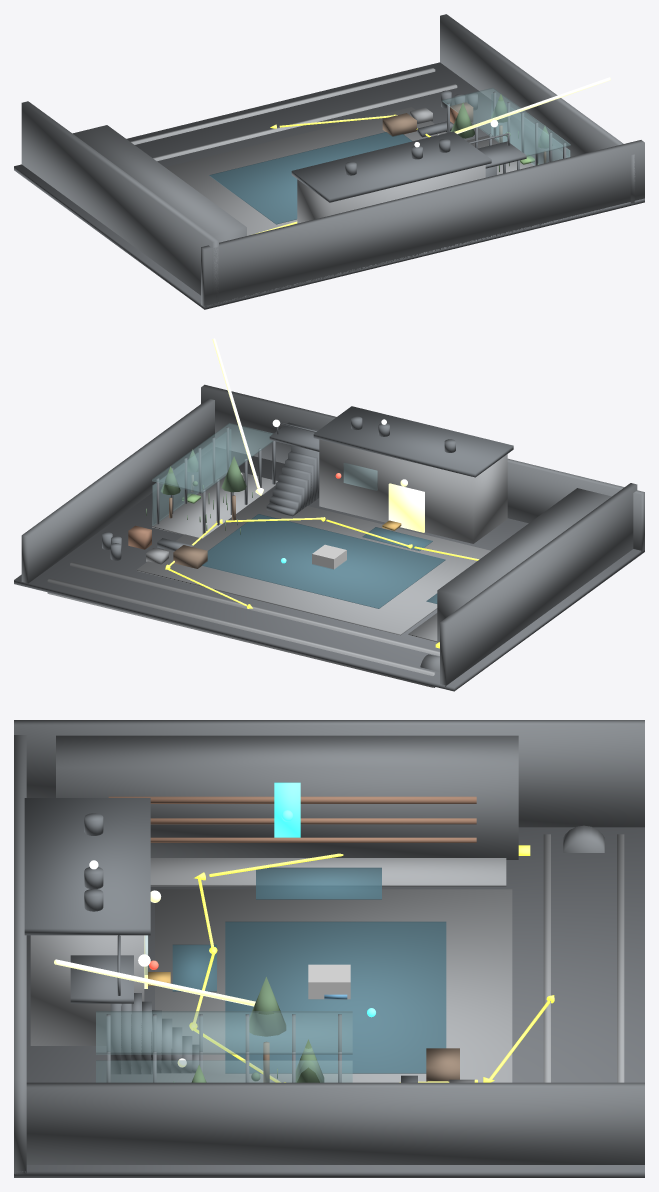
The model's file is scene_sketch.glb.
3 renders of one model, top to bottom at view 1: azimuth 30°, elevation 25°; view 2: azimuth 150°, elevation 25°; view 3: azimuth 270°, elevation 25°, orthographic. The views are drawn at different scales.
Parts seen in each view (by area): view 1: Boundary_Back, Ground_Site, Boundary_Left, Zone01_Courtyard_Paving, Boundary_Right, Building_Roof, Water_Central_Shallow, Alley_Left_Wall, GlassCorridor_Roof, Building_Main, GlassCorridor_Side, Canal_Wall_Front (+6 smaller); view 2: Zone01_Courtyard_Paving, Ground_Site, Boundary_Left, Water_Central_Shallow, Building_Main, Boundary_Right, Boundary_Back, Building_Roof, Alley_Left_Wall, GlassCorridor_Roof, GlassCorridor_Floor, Canal_Wall_Front (+10 smaller); view 3: Zone01_Courtyard_Paving, Boundary_Right, Alley_Left_Wall, Ground_Site, Water_Central_Shallow, Boundary_Left, Building_Roof, GlassCorridor_Roof, Alley_Wet_Floor, Building_Main, GlassCorridor_Side, Boundary_Back (+19 smaller).
Boxes of the visible parts, x1,y1,x2,y2 form: Boundary_Back: (201, 140, 644, 307); Ground_Site: (14, 62, 644, 309); Boundary_Left: (21, 101, 218, 305); Zone01_Courtyard_Paving: (165, 107, 446, 235); Boundary_Right: (440, 14, 635, 203); Building_Roof: (291, 131, 491, 202); Water_Central_Shallow: (209, 132, 412, 224); Alley_Left_Wall: (72, 125, 246, 242); GlassCorridor_Roof: (442, 88, 570, 156); Building_Main: (297, 165, 485, 223); GlassCorridor_Side: (491, 94, 570, 165); Canal_Wall_Front: (130, 68, 435, 144); Zone01_Courtyard_Paving: (136, 495, 490, 635); Ground_Site: (14, 447, 644, 691); Boundary_Left: (440, 483, 637, 686); Water_Central_Shallow: (202, 514, 445, 608); Building_Main: (319, 439, 507, 543); Boundary_Right: (21, 398, 214, 583); Boundary_Back: (201, 384, 644, 551); Building_Roof: (313, 406, 513, 477); Alley_Left_Wall: (437, 488, 611, 642); GlassCorridor_Roof: (152, 423, 273, 493); GlassCorridor_Floor: (152, 472, 277, 538); Canal_Wall_Front: (47, 578, 435, 687); Zone01_Courtyard_Paving: (155, 889, 512, 1082); Boundary_Right: (26, 1082, 644, 1164); Alley_Left_Wall: (56, 735, 518, 859); Ground_Site: (14, 827, 644, 1177); Water_Central_Shallow: (225, 921, 446, 1073); Boundary_Left: (14, 720, 644, 827); Building_Roof: (24, 798, 150, 935); GlassCorridor_Roof: (96, 1011, 352, 1054); Alley_Wet_Floor: (150, 858, 506, 886); Building_Main: (30, 935, 144, 1045); GlassCorridor_Side: (96, 1060, 352, 1082); Boundary_Back: (14, 735, 26, 1174).
Bounding box in the file's own units: 40 × 11.72 × 30.
